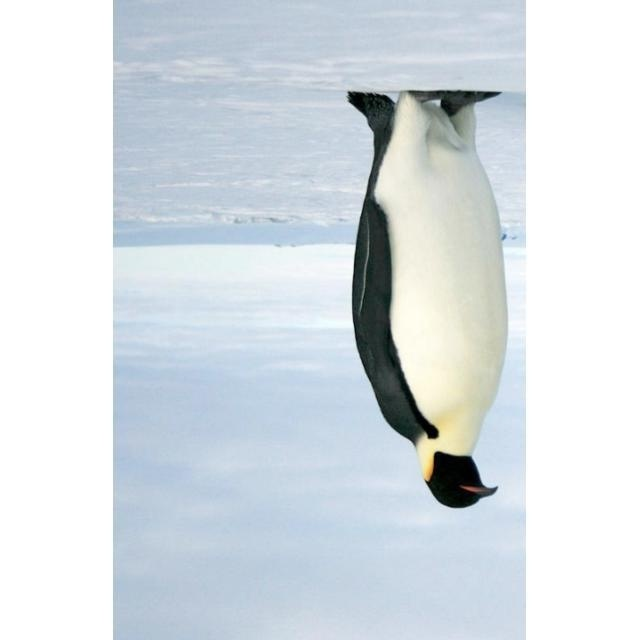penguin: (346, 91, 508, 508)
